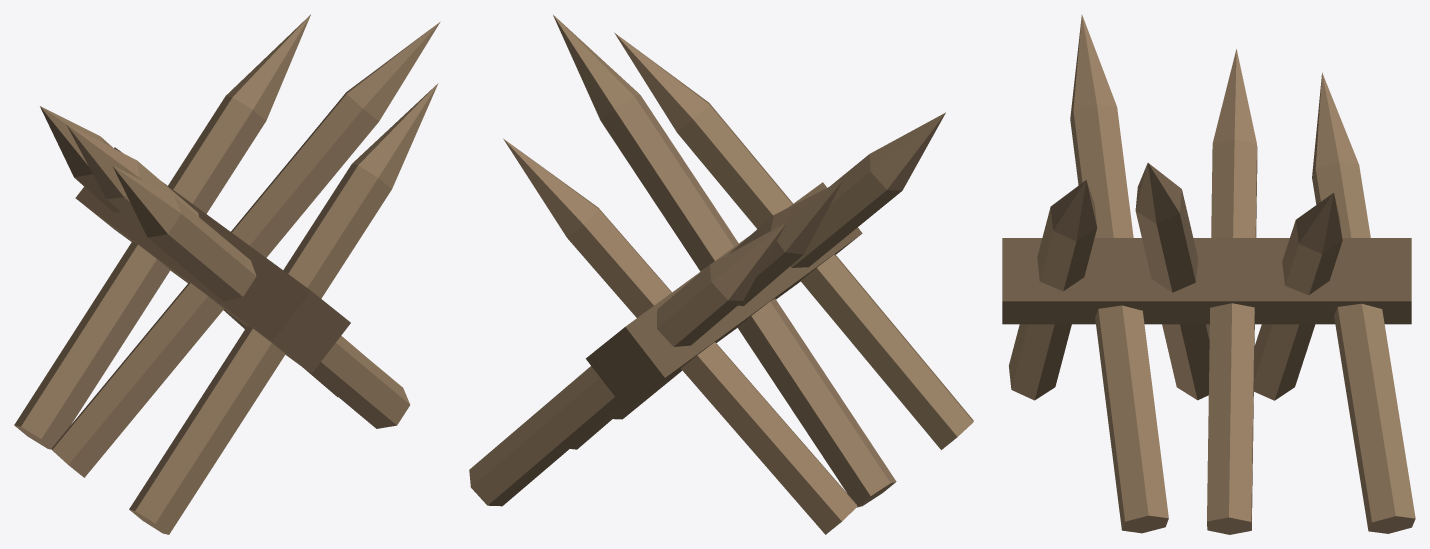
File: Barricade01_Blockout.fbx
The picture shows the model from 3 angles, left to right: view 1: azimuth 30°, elevation 25°; view 2: azimuth 150°, elevation 25°; view 3: azimuth 270°, elevation 25°; orthographic projection. The views are drawn at different scales.
Parts seen in each view (by area): view 1: polySurface68; view 2: polySurface68; view 3: polySurface68.
Part boxes in pixels (x1,y1,x2,y2): polySurface68: (14,14,440,534); polySurface68: (469,15,973,534); polySurface68: (1002,15,1415,534).
Size of the model in its own units: 1.68 by 1.73 by 1.59.
